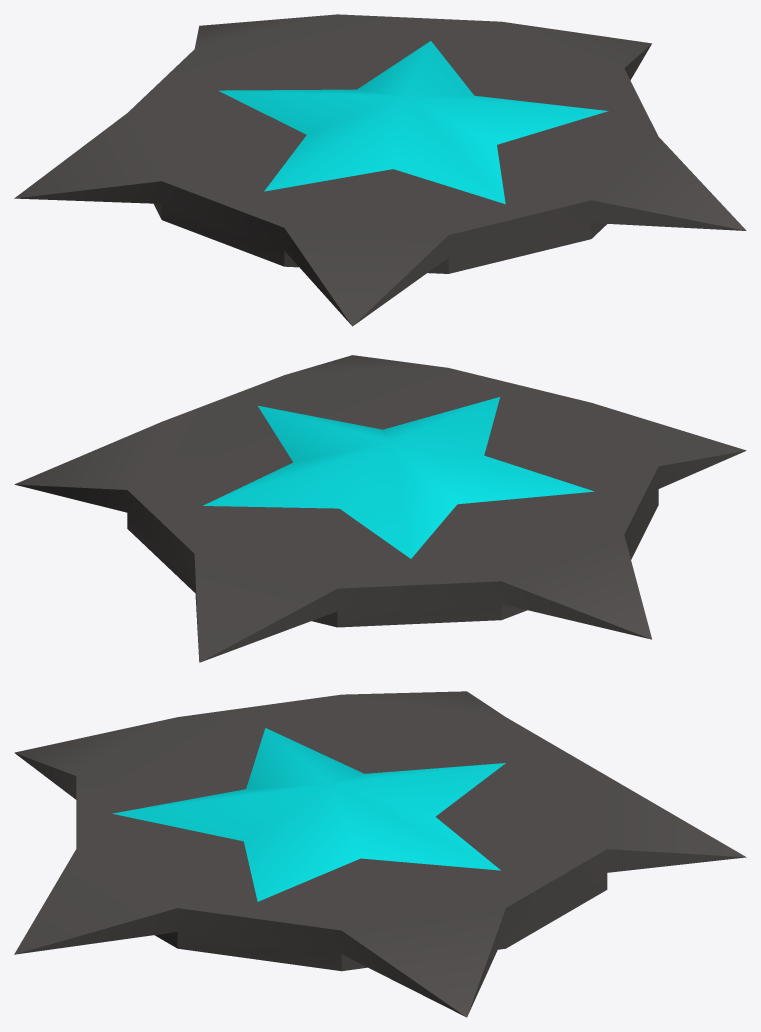
Rendered from teleporter.fbx.
3 views of the same model, one above another, from view 1: azimuth 30°, elevation 25°; view 2: azimuth 150°, elevation 25°; view 3: azimuth 270°, elevation 25° (orthographic). The views are drawn at different scales.
Parts seen in each view (by area): view 1: pDisc8; view 2: pDisc8; view 3: pDisc8.
Boxes of the visible parts, <box> form: pDisc8: <box>14,14,746,326</box>; pDisc8: <box>14,355,746,662</box>; pDisc8: <box>14,691,746,1017</box>.
Bounding box in the file's own units: 16.56 × 1.82 × 15.75.
